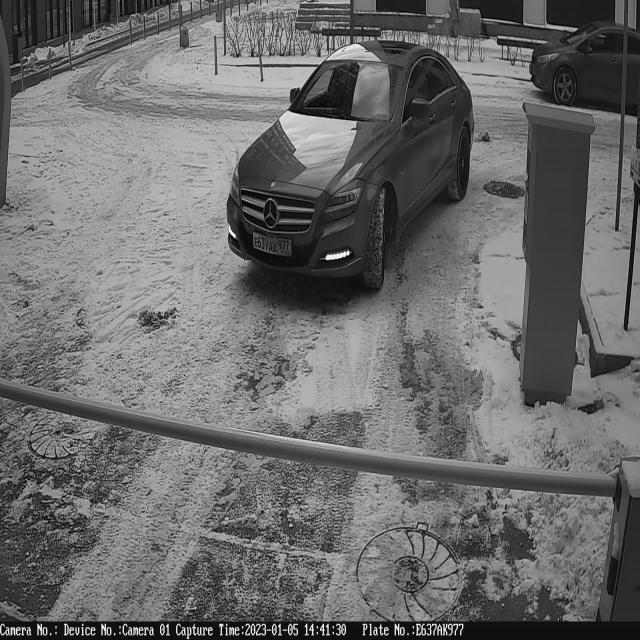car-plate-numbers: (250, 227, 296, 264)
